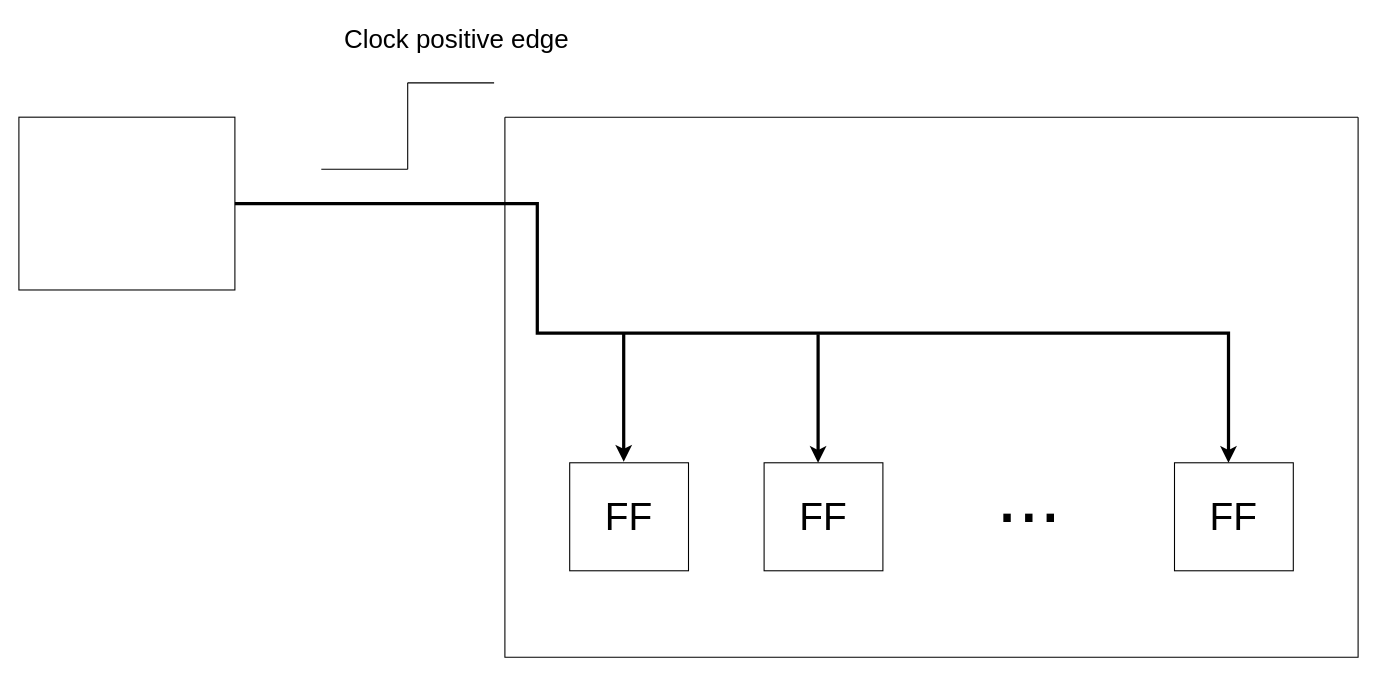
The diagram is 1377 pixels wide and 677 high, and some of its shapes have lost their labels. The shapes that lost their labels are listed below. From the top down, each one's box as (x1, y1, x2, y2) in pixels, then its label:
(18, 116, 235, 290): Patten Generator
(504, 116, 1358, 657): Logic
